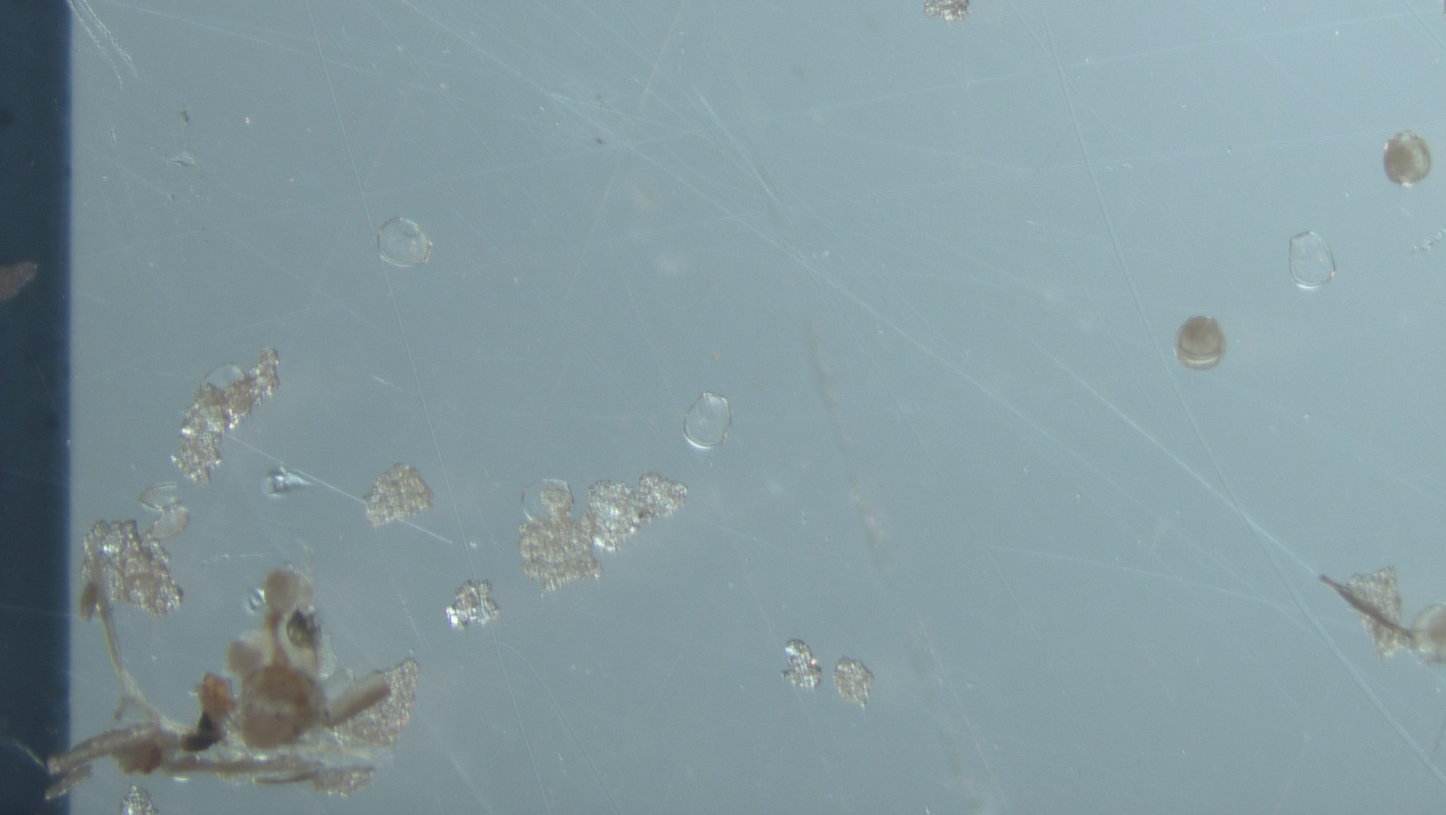dead: (683, 393, 732, 451), (376, 218, 432, 268), (1290, 232, 1334, 291), (138, 483, 189, 523), (204, 365, 261, 388), (522, 485, 542, 519)
live: (1176, 316, 1225, 371), (1383, 131, 1432, 186)
